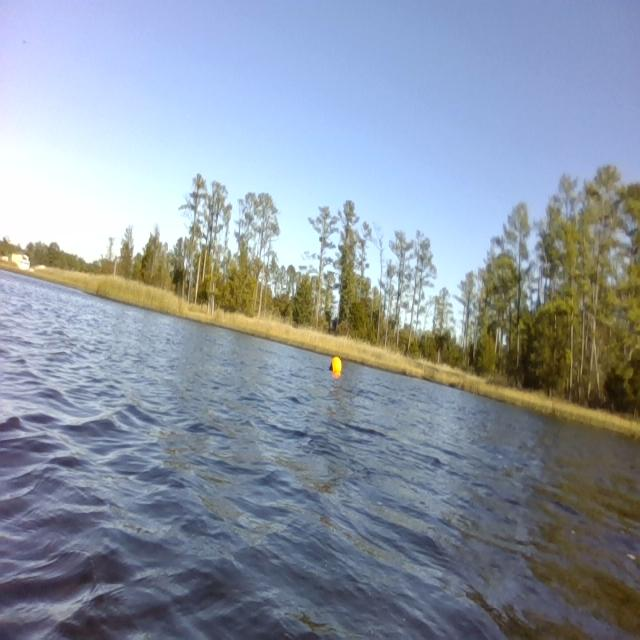Buoy: (329, 355, 344, 377)
